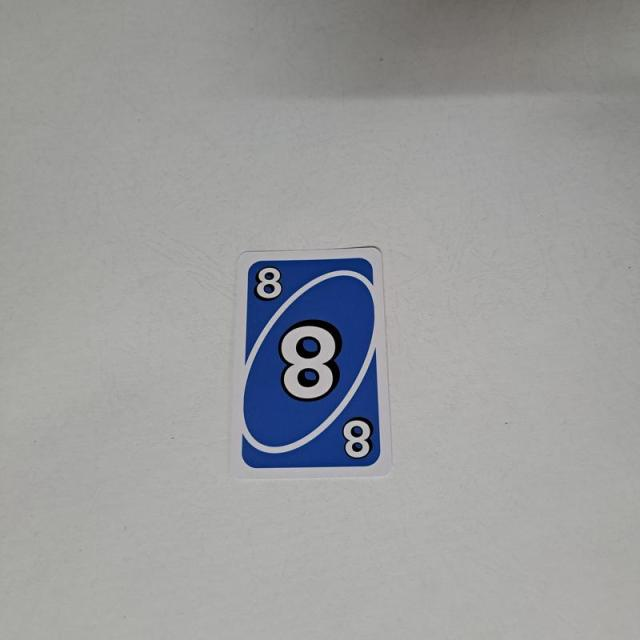Blue_Card: (243, 255, 382, 472)
Number_8: (255, 263, 285, 303)
